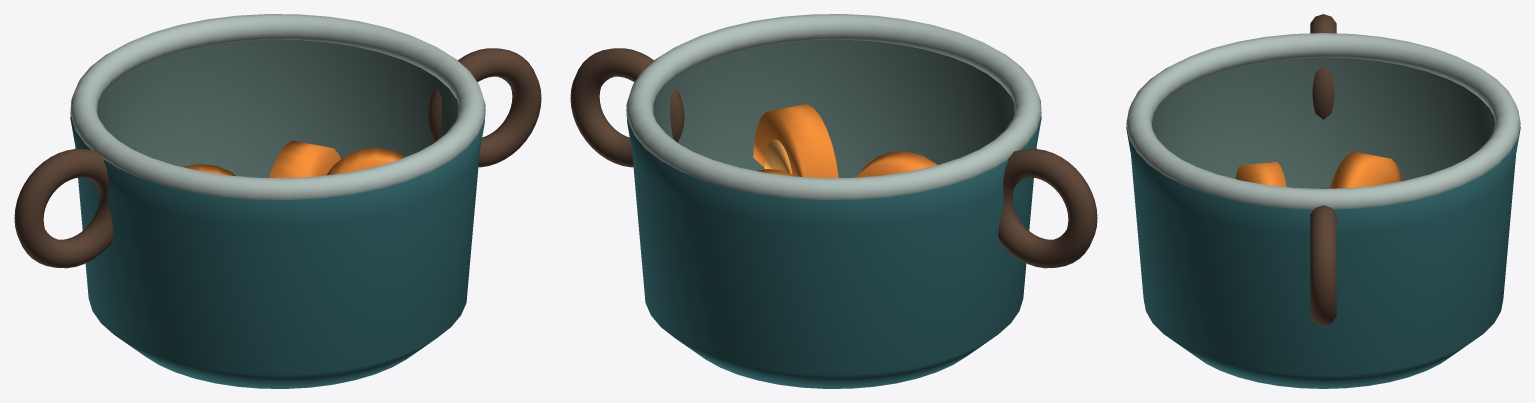
Rendered from pot-carrot.obj.
3 views of the same model, side by side, from view 1: azimuth 30°, elevation 25°; view 2: azimuth 150°, elevation 25°; view 3: azimuth 270°, elevation 25° (orthographic). The views are drawn at different scales.
Parts seen in each view (by area): view 1: pot-carrot_teal, pot-carrot_darkMetal, pot-carrot_metal, pot-carrot_cocoa, pot-carrot_carrot; view 2: pot-carrot_teal, pot-carrot_darkMetal, pot-carrot_metal, pot-carrot_cocoa, pot-carrot_carrot, pot-carrot_carrotCore; view 3: pot-carrot_teal, pot-carrot_darkMetal, pot-carrot_metal, pot-carrot_cocoa, pot-carrot_carrot.
Part boxes in pixels (x1=…): pot-carrot_teal: x1=70, y1=109, x2=485, y2=388; pot-carrot_darkMetal: x1=97, y1=39, x2=458, y2=177; pot-carrot_metal: x1=70, y1=14, x2=485, y2=199; pot-carrot_cocoa: x1=14, y1=48, x2=541, y2=268; pot-carrot_carrot: x1=183, y1=140, x2=406, y2=177; pot-carrot_teal: x1=626, y1=109, x2=1041, y2=388; pot-carrot_darkMetal: x1=653, y1=39, x2=1014, y2=177; pot-carrot_metal: x1=626, y1=14, x2=1041, y2=199; pot-carrot_cocoa: x1=570, y1=48, x2=1097, y2=268; pot-carrot_carrot: x1=753, y1=104, x2=937, y2=177; pot-carrot_carrotCore: x1=764, y1=139, x2=792, y2=173; pot-carrot_teal: x1=1126, y1=126, x2=1520, y2=388; pot-carrot_darkMetal: x1=1151, y1=57, x2=1495, y2=188; pot-carrot_metal: x1=1126, y1=33, x2=1520, y2=209; pot-carrot_cocoa: x1=1310, y1=14, x2=1336, y2=325; pot-carrot_carrot: x1=1235, y1=151, x2=1401, y2=188.
Size of the model in its own units: 0.494 by 0.2045 by 0.34.
